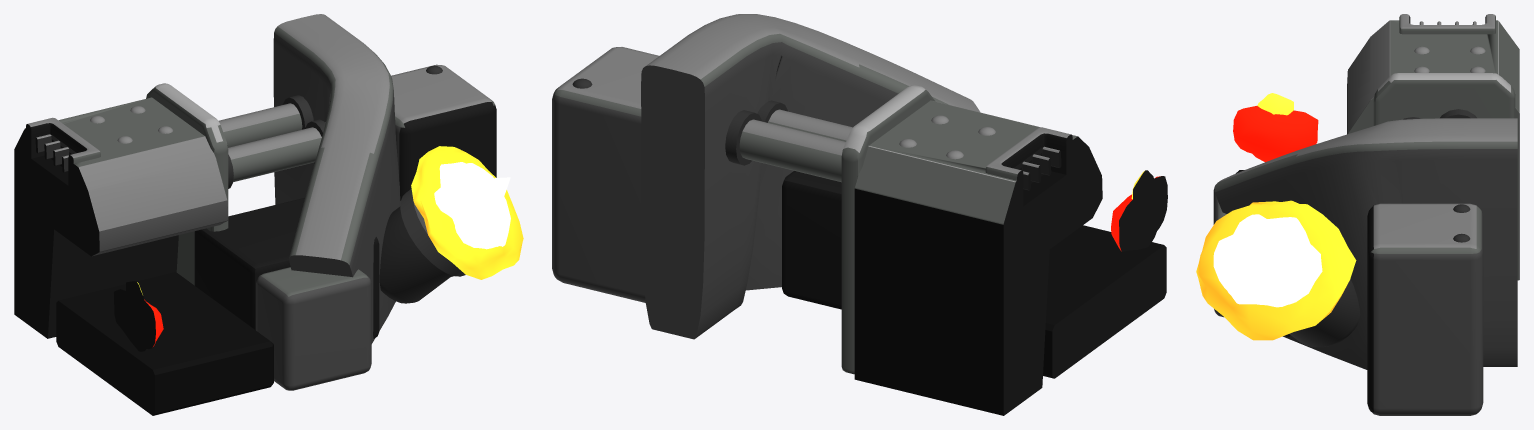
The model's file is jaw_gun_a_right_239.glb.
3 views of the same model, side by side, from view 1: azimuth 30°, elevation 25°; view 2: azimuth 150°, elevation 25°; view 3: azimuth 270°, elevation 25° (orthographic). The views are drawn at different scales.
Visible parts, largest first — view 1: upper_jaw.001, bracket.001, mouth_floor.001, bracket_foot.001, base.001, pod.001, flare0.001, barrel.001, flare1.001, flange.001, rod1.001, rod0.001 (+3 smaller); view 2: upper_jaw.001, bracket.001, pod.001, mouth_floor.001, base.001, flange.001, rod0.001, fireball0.001, bezel.001, rod1.001, rod0_collar1.001; view 3: bracket.001, pod.001, flare0.001, upper_jaw.001, flare1.001, flange.001, fireball0.001, barrel.001, flame.001, bezel.001, fireball1.001.
Part boxes in pixels (bbox=[...]): upper_jaw.001: bbox=[14, 97, 227, 338]; bracket.001: bbox=[273, 14, 400, 343]; mouth_floor.001: bbox=[56, 272, 273, 415]; bracket_foot.001: bbox=[256, 267, 371, 390]; base.001: bbox=[194, 198, 379, 338]; pod.001: bbox=[391, 64, 496, 276]; flare0.001: bbox=[411, 146, 523, 279]; barrel.001: bbox=[379, 189, 465, 303]; flare1.001: bbox=[434, 162, 510, 249]; flange.001: bbox=[146, 83, 228, 285]; rod1.001: bbox=[228, 127, 321, 182]; rod0.001: bbox=[218, 103, 302, 147]; upper_jaw.001: bbox=[854, 100, 1102, 415]; bracket.001: bbox=[641, 14, 980, 339]; pod.001: bbox=[552, 47, 658, 302]; mouth_floor.001: bbox=[1043, 225, 1166, 378]; base.001: bbox=[782, 171, 841, 309]; flange.001: bbox=[841, 85, 935, 374]; rod0.001: bbox=[739, 119, 845, 182]; fireball0.001: bbox=[1111, 176, 1167, 251]; bezel.001: bbox=[985, 127, 1072, 190]; rod1.001: bbox=[768, 109, 852, 141]; rod0_collar1.001: bbox=[725, 110, 762, 165]; bracket.001: bbox=[1214, 118, 1517, 369]; pod.001: bbox=[1367, 203, 1483, 415]; flare0.001: bbox=[1196, 200, 1356, 340]; upper_jaw.001: bbox=[1347, 20, 1519, 280]; flare1.001: bbox=[1213, 214, 1322, 307]; flange.001: bbox=[1373, 73, 1515, 125]; fireball0.001: bbox=[1233, 106, 1318, 162]; barrel.001: bbox=[1289, 279, 1360, 347]; flame.001: bbox=[1239, 237, 1279, 276]; bezel.001: bbox=[1399, 14, 1495, 34]; fireball1.001: bbox=[1257, 93, 1293, 115].
Size of the model in its own units: 22.4 by 11.85 by 15.06.
